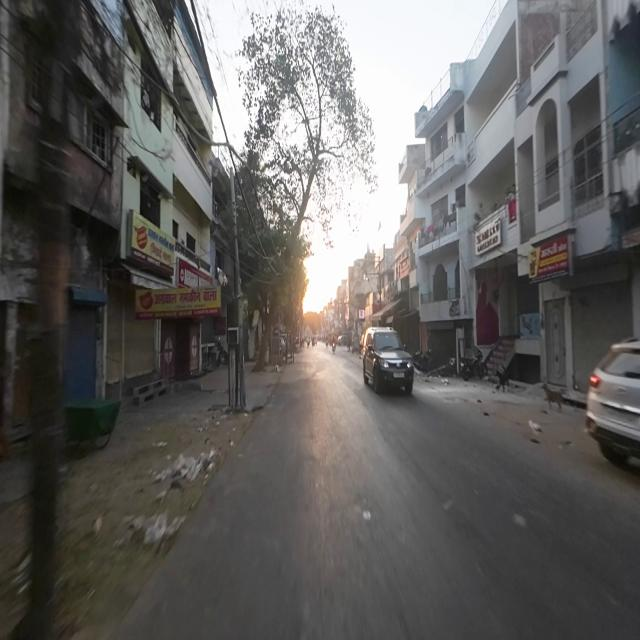Garbage: (141, 450, 203, 554)
